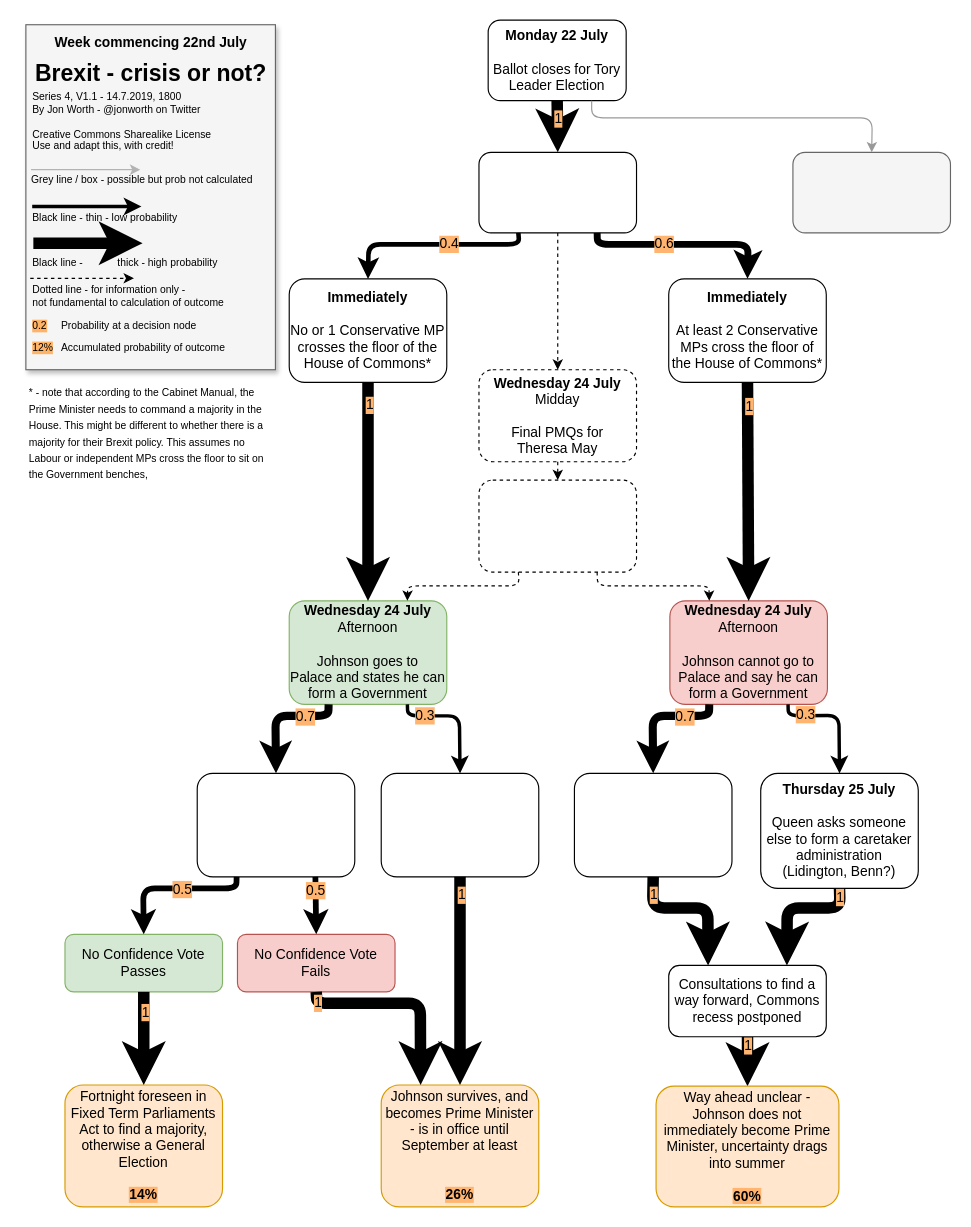
The diagram is 971 pixels wide and 1227 high, and some of its shapes have lost their labels. Each missing label, with the centre of its shape:
Thursday 25 July Labour does not propose No Confidence Vote in the Government: the point at 459,824
Thursday 25 July Labour proposes a No Confidence Vote in the Government: the point at 275,824
Thursday 25 July Queen asks May to continue as PM in a caretaker capacity: the point at 652,824
Tuesday 23 July Boris Johnson announced as winner: the point at 557,192
Tuesday 24 June Jeremy Hunt announced as winner: the point at 871,192
Wednesday 24 July Afternoon May goes the the Palace and tenders resignation: the point at 557,525
